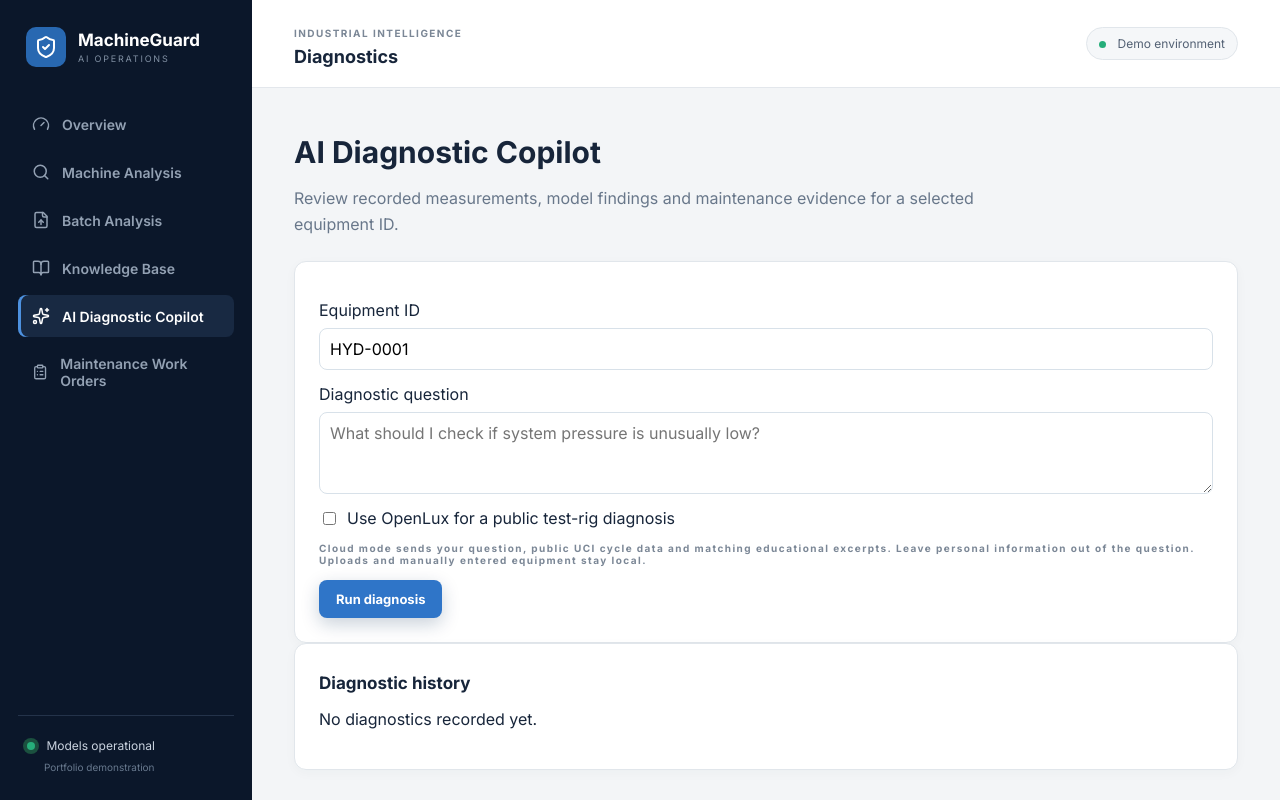
it: shows a missing equipment error while keeping cloud opt-in unchecked
Expected: the text "No diagnostics recorded yet." is shown, [319,709,537,729]
Expected: the checkbox labelled "Use OpenLux for a public test-rig diagnosis" is not checked, [323,512,336,525]
Type "check" into the text box labelled "Diagnostic question".
click(766, 453); type("check")  # box [319,412,1213,494]
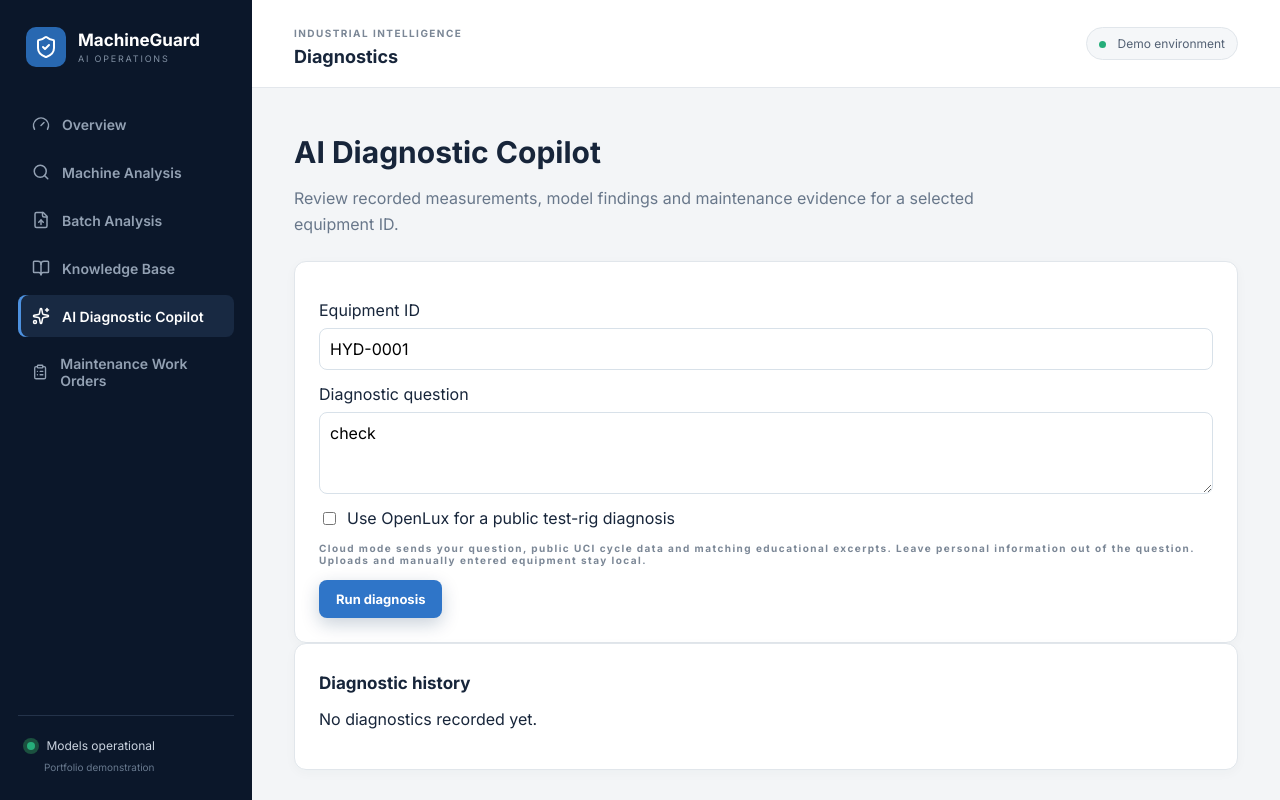
Click the button "Run diagnosis".
click(381, 599)  # box [319,580,442,618]
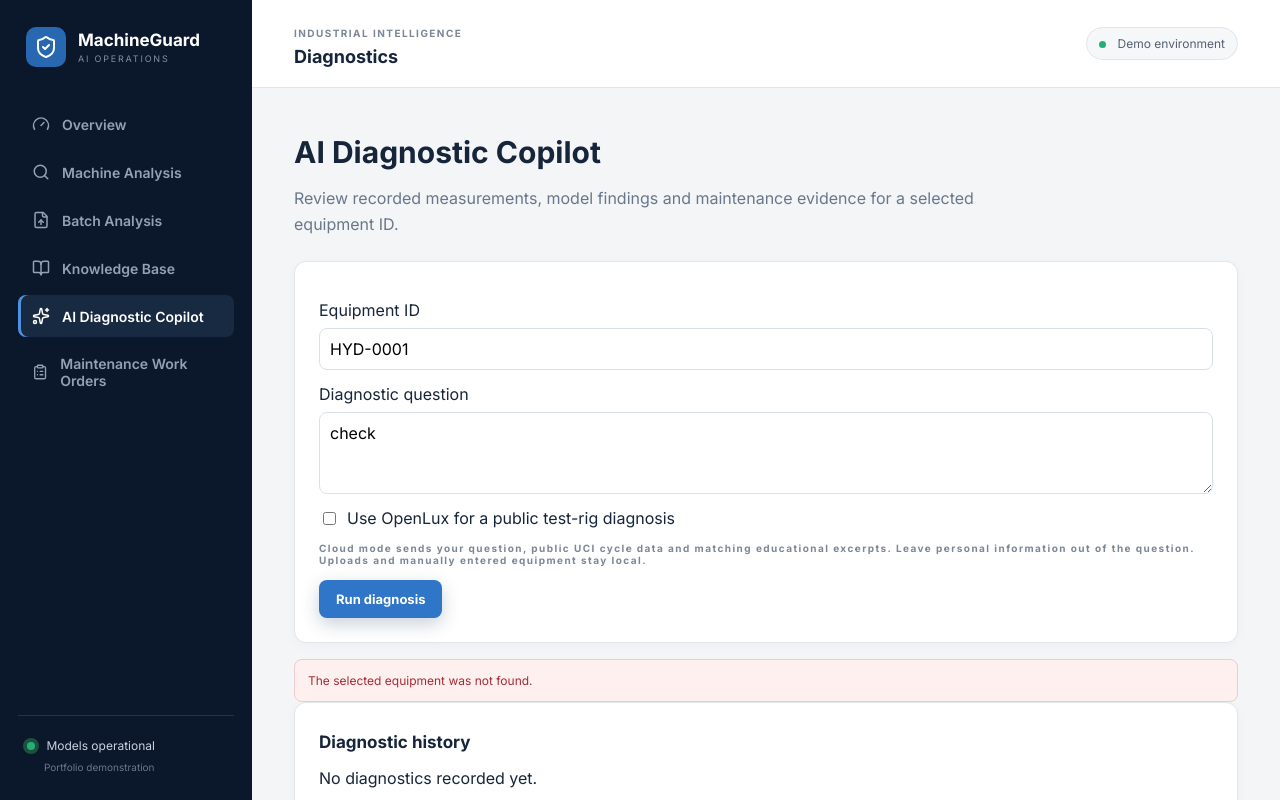
Result: the message reads "The selected equipment was not found." at [308,673,533,688]
